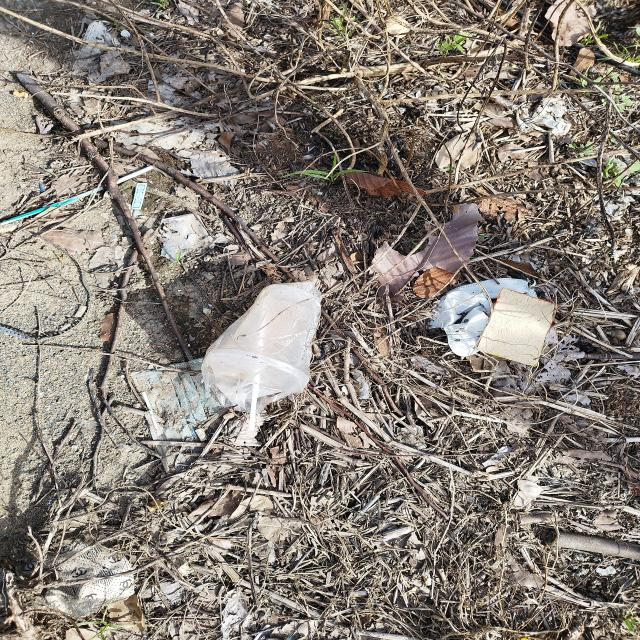drinking straw: (1, 166, 154, 224), (248, 373, 270, 430)
trash bag: (202, 282, 317, 412)
